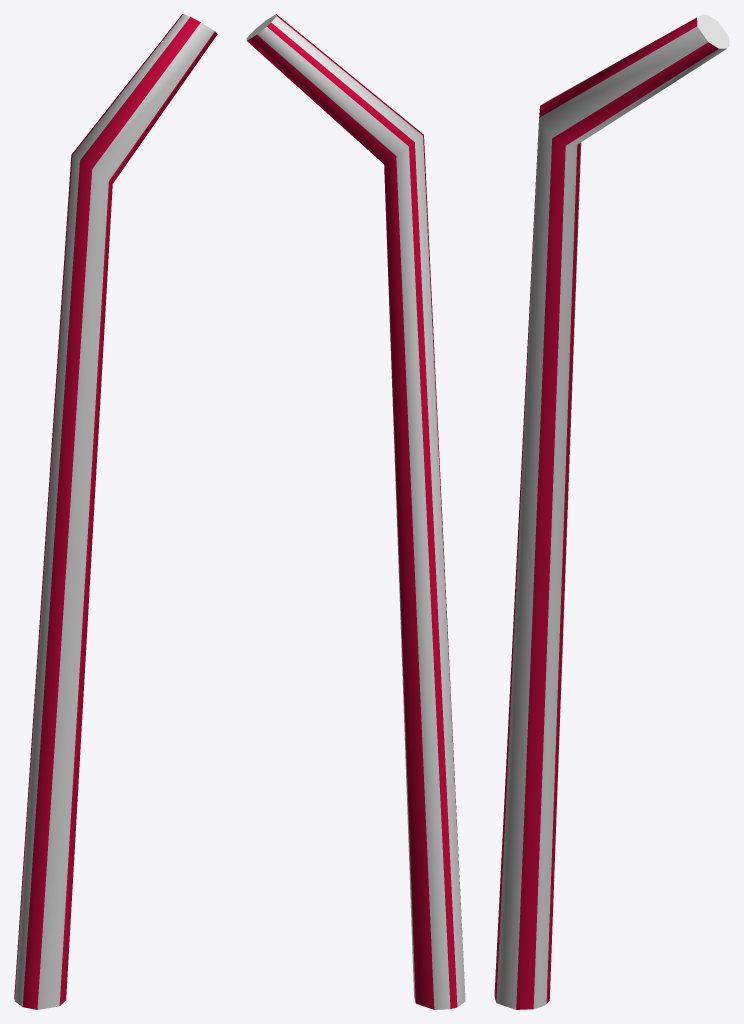
The model's file is straw.fbx.
3 renders of one model, left to right at view 1: azimuth 30°, elevation 25°; view 2: azimuth 150°, elevation 25°; view 3: azimuth 330°, elevation 25°, orthographic. The views are drawn at different scales.
Visible parts, largest first — view 1: pCylinder1; view 2: pCylinder1; view 3: pCylinder1.
Part boxes in pixels (bbox=[...]): pCylinder1: bbox=[14, 14, 217, 1009]; pCylinder1: bbox=[246, 14, 465, 1009]; pCylinder1: bbox=[494, 14, 729, 1009].
Bounding box in the file's own units: 5.91 × 26.17 × 1.95.
